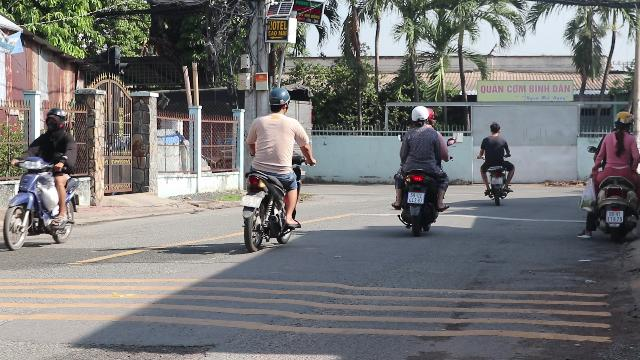helmet: (266, 86, 290, 114), (44, 108, 66, 132), (612, 110, 634, 132), (409, 106, 429, 127)
licenseplate: (241, 194, 261, 208), (606, 210, 622, 222), (408, 193, 424, 204)
motorcyclist: (237, 86, 309, 250), (1, 106, 81, 250), (578, 109, 640, 241), (389, 105, 451, 234)
